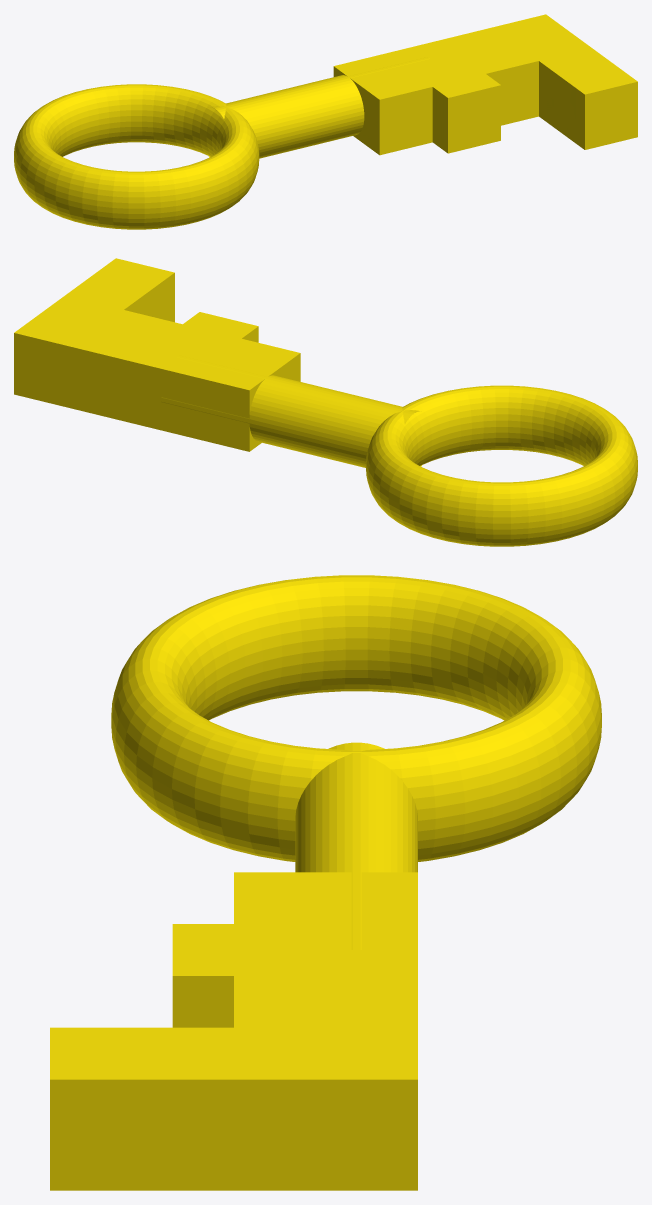
File: key.obj
3 renders of one model, top to bottom at view 1: azimuth 30°, elevation 25°; view 2: azimuth 150°, elevation 25°; view 3: azimuth 270°, elevation 25°, orthographic. The views are drawn at different scales.
Visible parts, largest first — view 1: mesh, torus, tube; view 2: torus, mesh, tube; view 3: mesh, torus, tube.
Part boxes in pixels (bbox=[...]): mesh: bbox=[333, 14, 637, 155]; torus: bbox=[14, 84, 259, 229]; tube: bbox=[208, 57, 429, 158]; torus: bbox=[366, 385, 637, 546]; mesh: bbox=[14, 258, 300, 451]; tube: bbox=[161, 355, 421, 467]; mesh: bbox=[50, 872, 417, 1190]; torus: bbox=[111, 575, 601, 861]; tube: bbox=[295, 742, 417, 949].
Bounding box in the file's own units: 0.625 × 0.0629 × 0.2812.
Materials: 1 (1 with a texture image).
